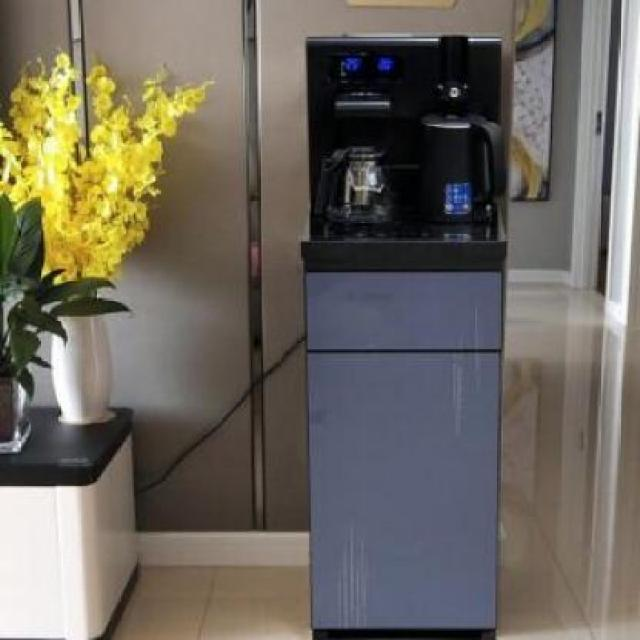cooler: (282, 19, 522, 636)
